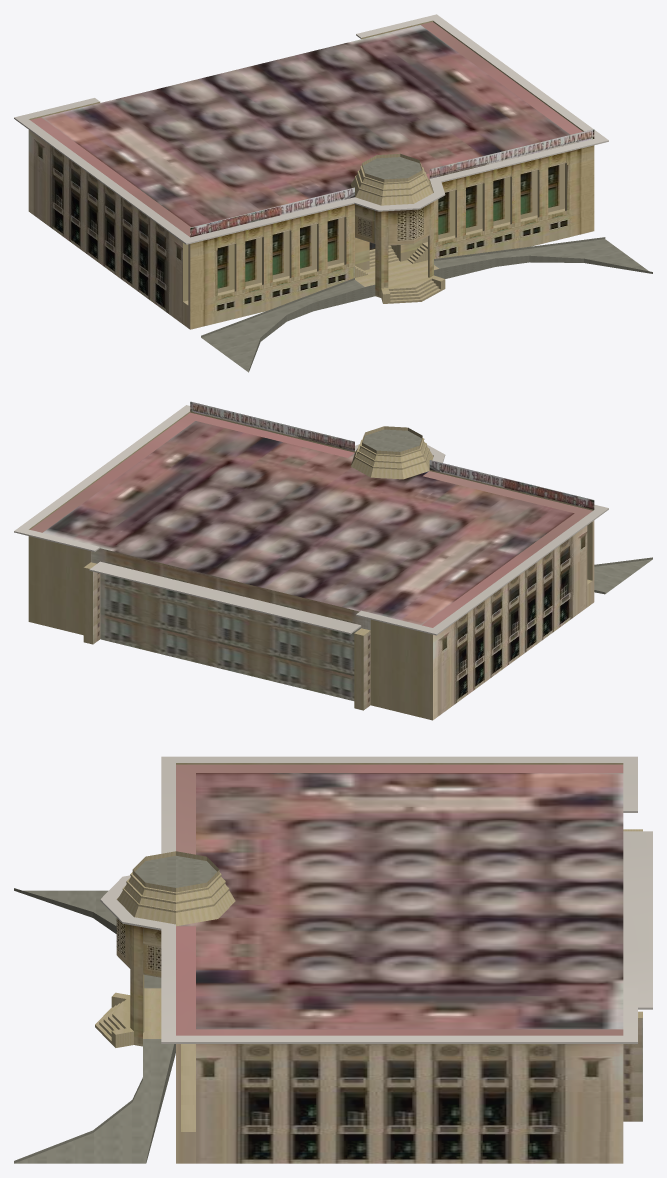
3 renders of one model, top to bottom at view 1: azimuth 30°, elevation 25°; view 2: azimuth 150°, elevation 25°; view 3: azimuth 270°, elevation 25°, orthographic. The views are drawn at different scales.
Visible parts, largest first — view 1: HN692___Ngan_hang_nha_nuoc_Viet_Nam; view 2: HN692___Ngan_hang_nha_nuoc_Viet_Nam; view 3: HN692___Ngan_hang_nha_nuoc_Viet_Nam.
Part boxes in pixels (<box>): HN692___Ngan_hang_nha_nuoc_Viet_Nam: <box>14,14,652,372</box>; HN692___Ngan_hang_nha_nuoc_Viet_Nam: <box>14,401,652,720</box>; HN692___Ngan_hang_nha_nuoc_Viet_Nam: <box>14,756,652,1163</box>.
Bounding box in the file's own units: 68 × 17.5 × 64.32.
1 material, 1 textured.
